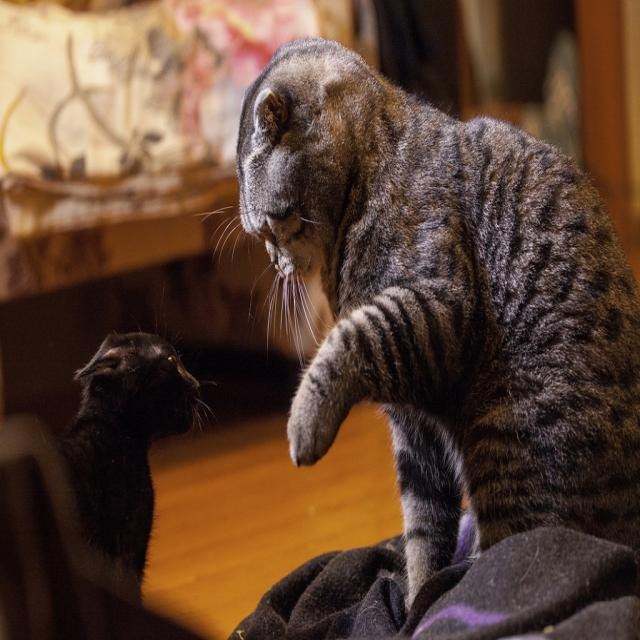Cat: (192, 32, 639, 610), (59, 285, 214, 602)
